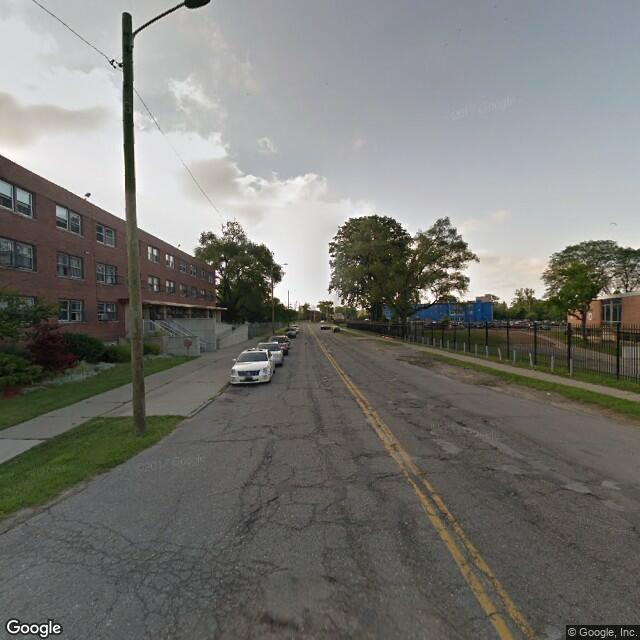litter: (546, 389, 554, 396)
